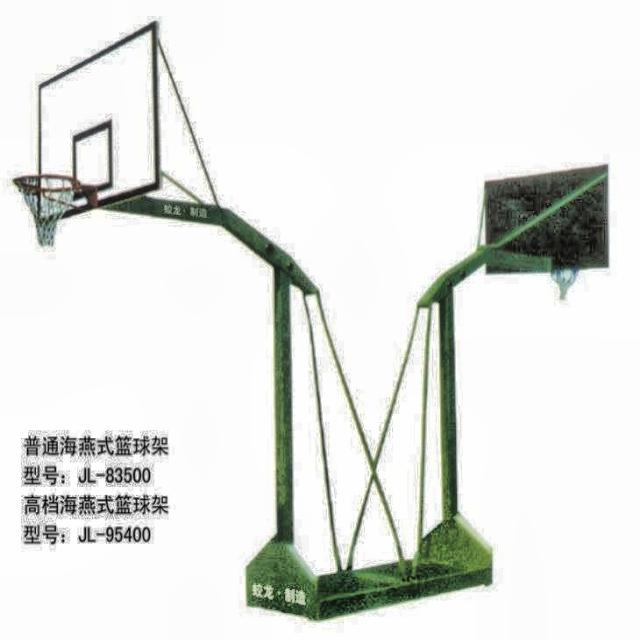rim: (16, 173, 81, 249)
